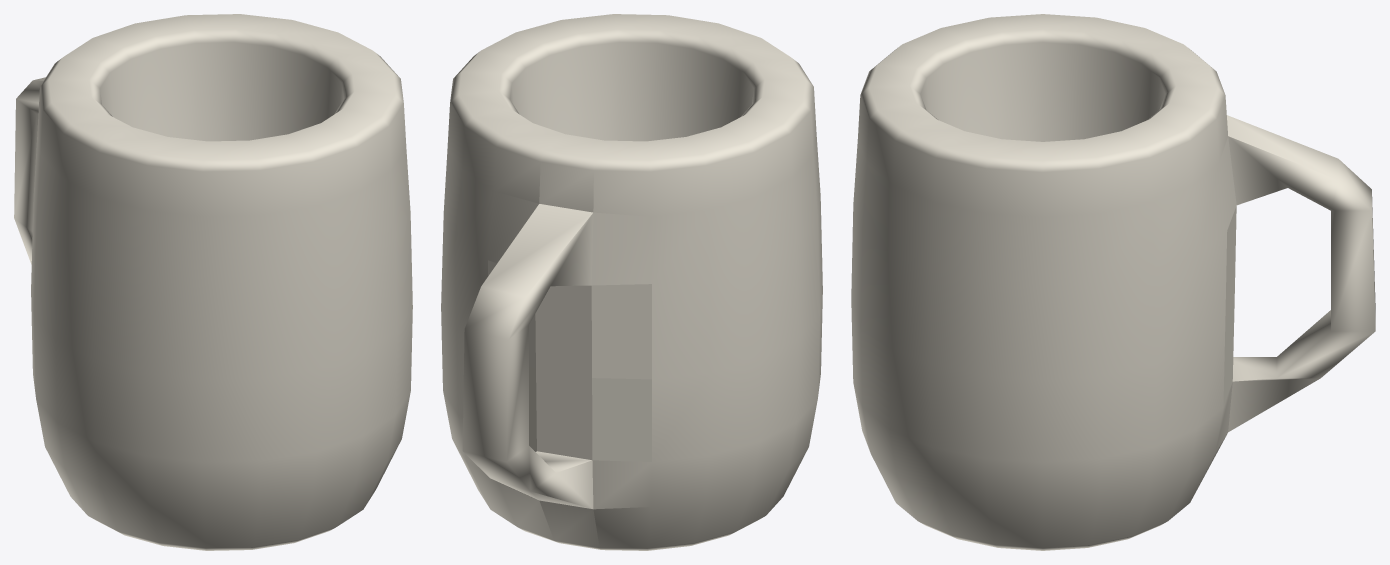
Rendered from Mug.fbx.
The picture shows the model from 3 angles, left to right: view 1: azimuth 30°, elevation 25°; view 2: azimuth 150°, elevation 25°; view 3: azimuth 270°, elevation 25°; orthographic projection.
Visible parts, largest first — view 1: pCube2; view 2: pCube2; view 3: pCube2.
Part boxes in pixels (x1=…): pCube2: x1=14, y1=14, x2=412, y2=550; pCube2: x1=441, y1=14, x2=822, y2=550; pCube2: x1=851, y1=14, x2=1375, y2=550.
Size of the model in its own units: 4.35 by 5.22 by 5.95.
Materials: 1 (1 with a texture image).
